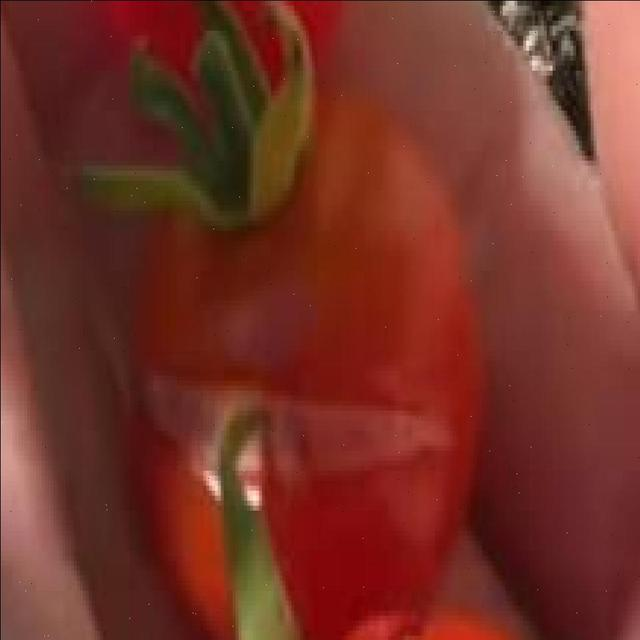Cracking Fruit: (89, 225, 305, 333)
